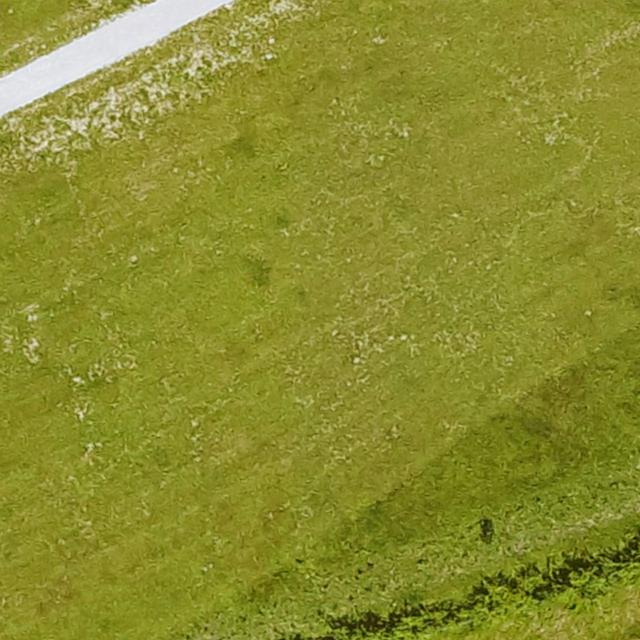tree: (321, 615, 461, 640), (556, 570, 612, 614), (484, 584, 537, 625), (613, 555, 640, 588)
